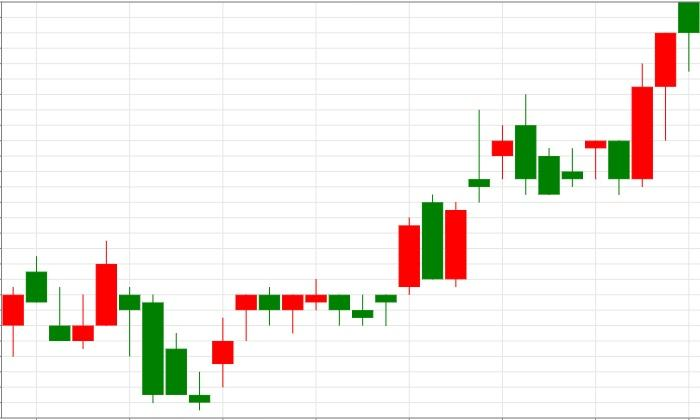hanging_man_fall: (608, 1, 700, 196)
